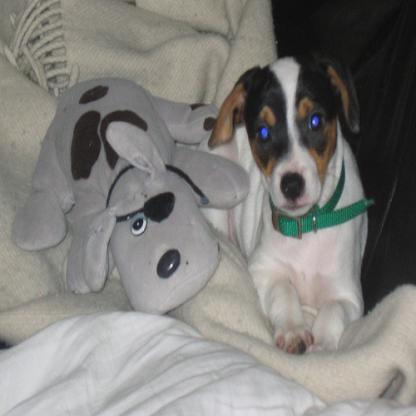dog: (208, 54, 369, 354)
